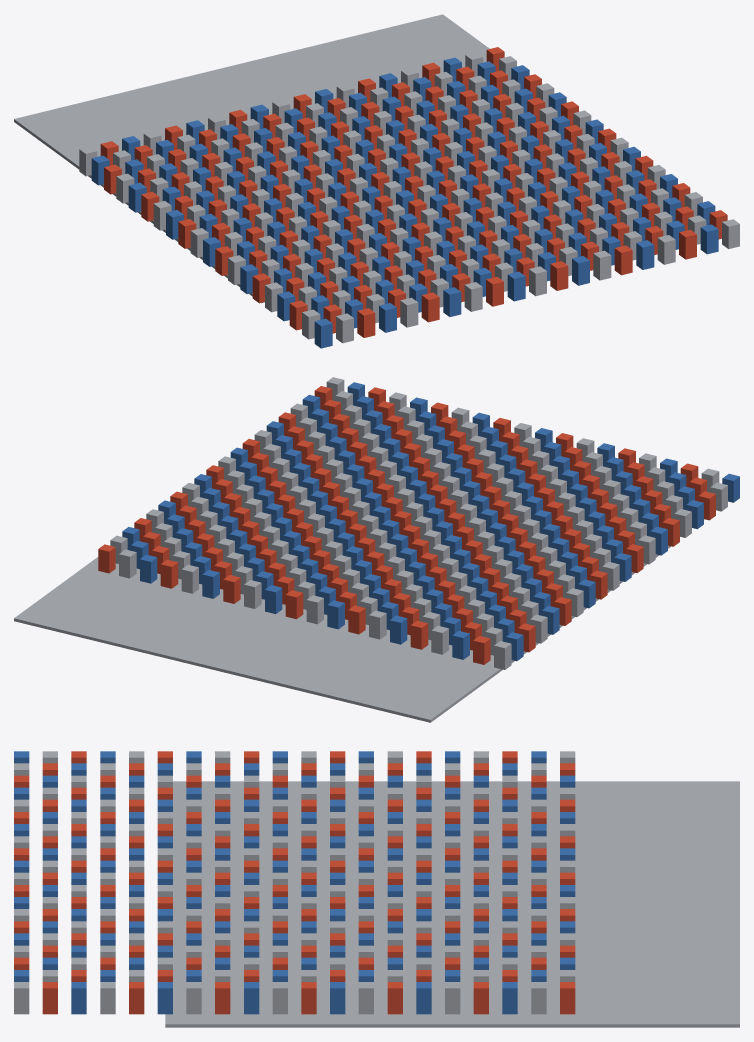
File: B-crowd.glb
3 renders of one model, top to bottom at view 1: azimuth 30°, elevation 25°; view 2: azimuth 150°, elevation 25°; view 3: azimuth 270°, elevation 25°, orthographic. The views are drawn at different scales.
Visible parts, largest first — view 1: box-0; view 2: box-0; view 3: box-0, box-40, box-60, box-120, box-200, box-280, box-340, box-360, box-20, box-80, box-100, box-140 (+9 smaller).
Part boxes in pixels (x1,y1,x2,y2): box-0: [14, 14, 489, 303]; box-0: [14, 545, 670, 722]; box-0: [165, 781, 739, 1027]; box-40: [531, 982, 546, 1014]; box-60: [502, 982, 517, 1014]; box-120: [416, 982, 431, 1014]; box-200: [301, 982, 316, 1014]; box-280: [186, 982, 201, 1014]; box-340: [100, 982, 115, 1014]; box-360: [71, 982, 86, 1014]; box-20: [560, 982, 575, 1014]; box-80: [473, 982, 488, 1014]; box-100: [445, 982, 460, 1014]; box-140: [387, 982, 402, 1014].
Size of the model in its own units: 30.4 by 1.75 by 37.9.
